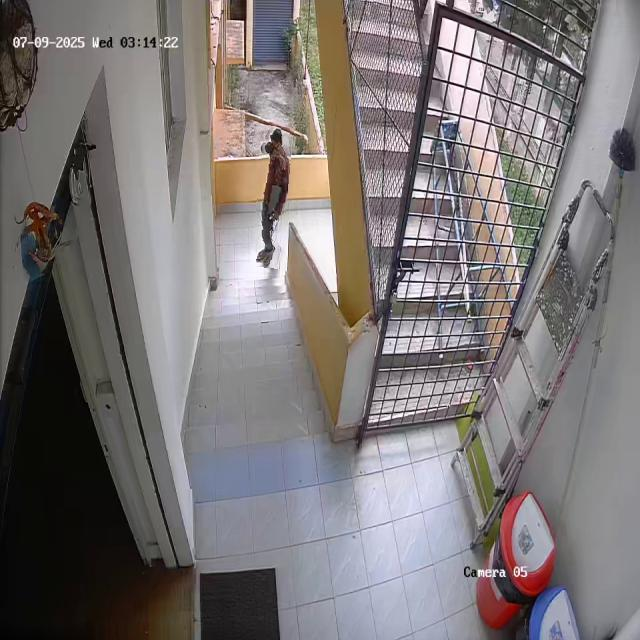person: (254, 126, 291, 268)
